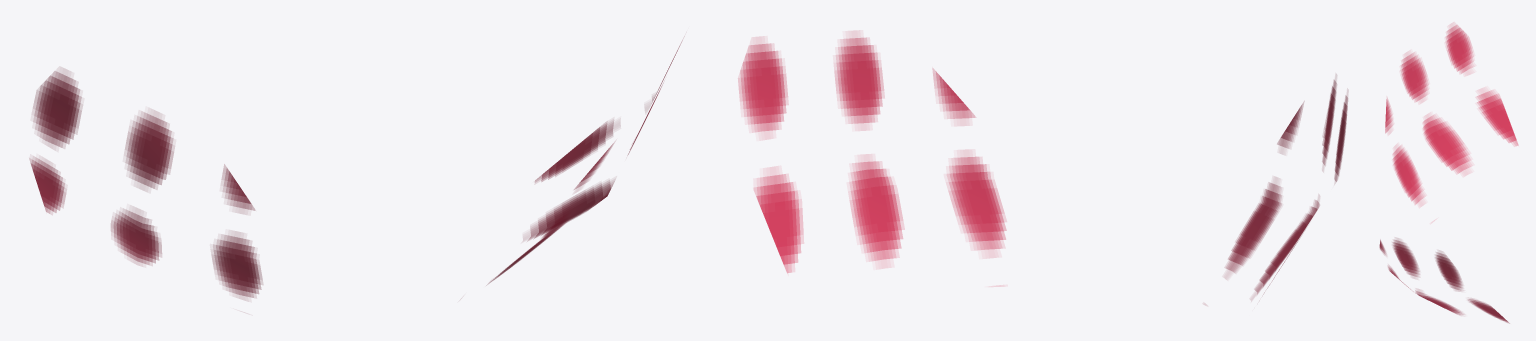
The picture shows the model from 3 angles, left to right: view 1: azimuth 30°, elevation 25°; view 2: azimuth 150°, elevation 25°; view 3: azimuth 270°, elevation 25°; orthographic projection. The views are drawn at different scales.
Parts seen in each view (by area): view 1: ef_508; view 2: ef_508; view 3: ef_508.
Boxes of the visible parts, bbox=[...] form: ef_508: bbox=[29, 36, 684, 300]; ef_508: bbox=[738, 31, 1347, 304]; ef_508: bbox=[1379, 23, 1518, 323].
Size of the model in its own units: 0.6882 by 0.3343 by 0.2347.
1 material, 1 textured.
